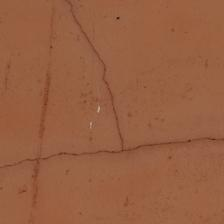Crack: (58, 36, 135, 190), (0, 201, 131, 224)
